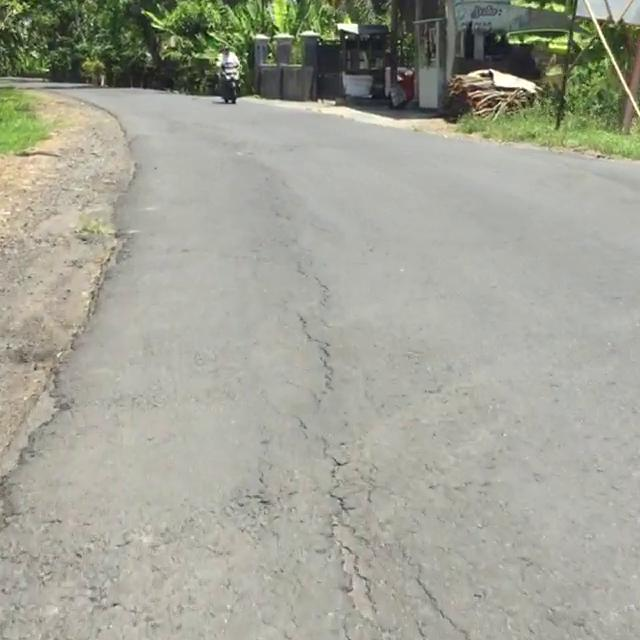retak_memanjang: (270, 267, 400, 640)
